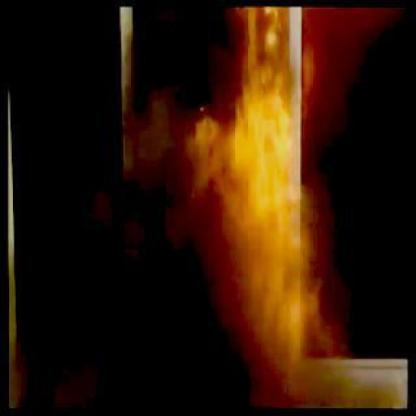Fire: (250, 50, 326, 392)
Smoke: (50, 13, 240, 398)
